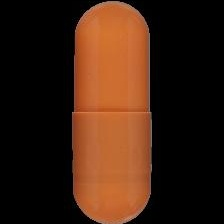68788-9509: (0, 0, 224, 224)
